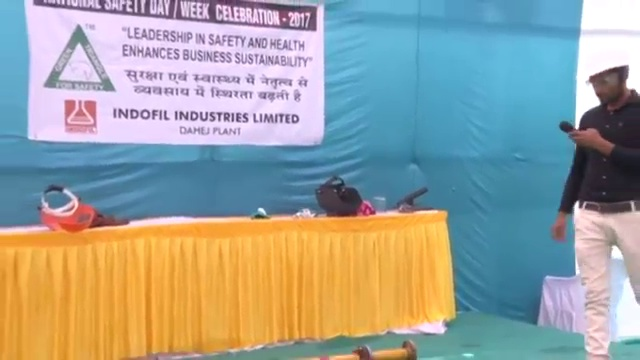helmet: (584, 46, 633, 86)
helmet_on: (582, 43, 636, 111)
person: (552, 41, 640, 355)
